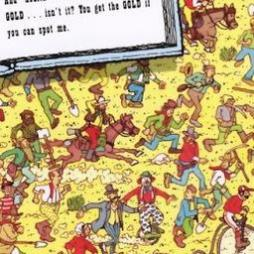wally: (0, 179, 16, 216)
